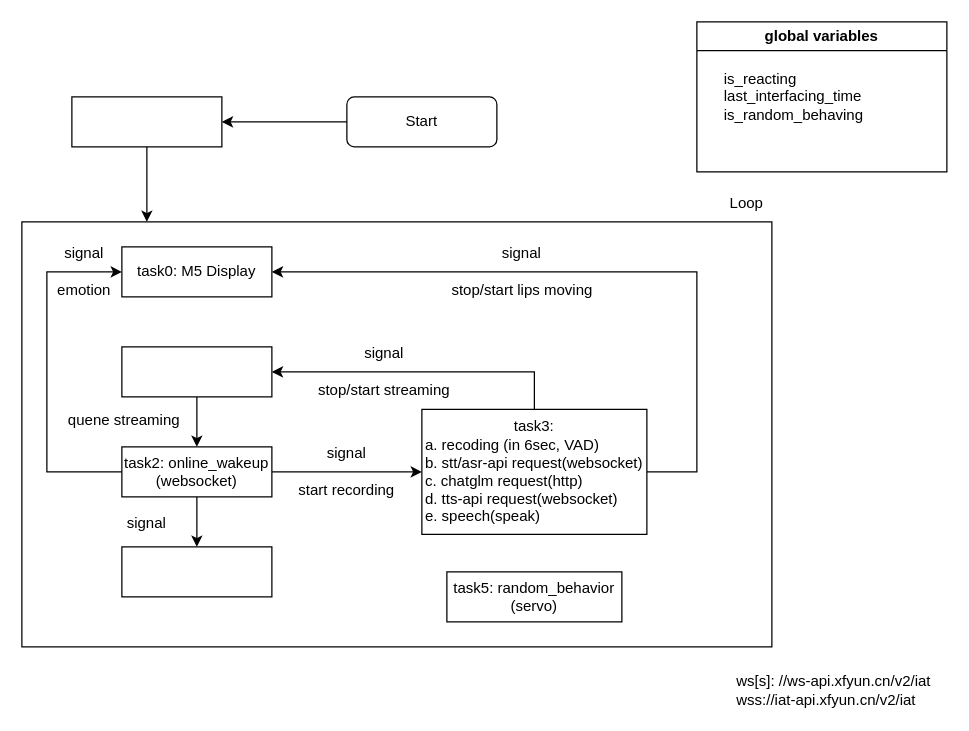
The diagram is 969 pixels wide and 731 high, and some of its shapes have lost their labels. Here are the shapes that lost their labels. From the top down, the centre of each, then its label:
the point at 146,121: Setup
the point at 196,371: task1: sample_audio
the point at 196,571: task4: movement (servo)
